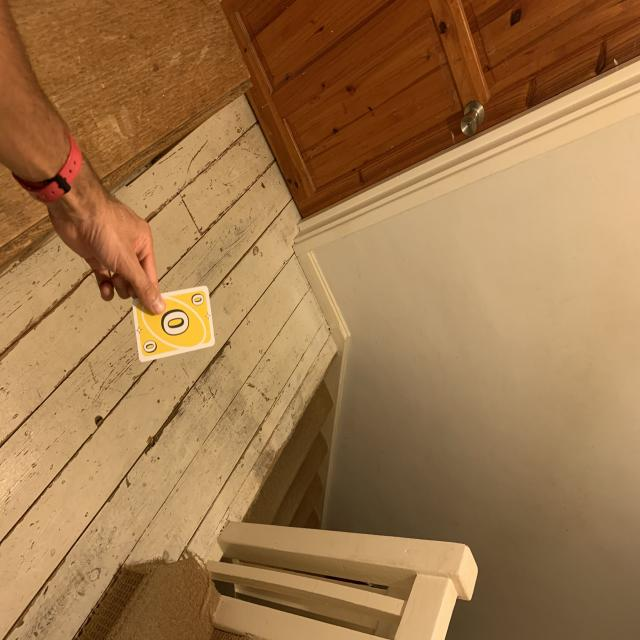lyellow-0: (188, 292, 208, 311)
